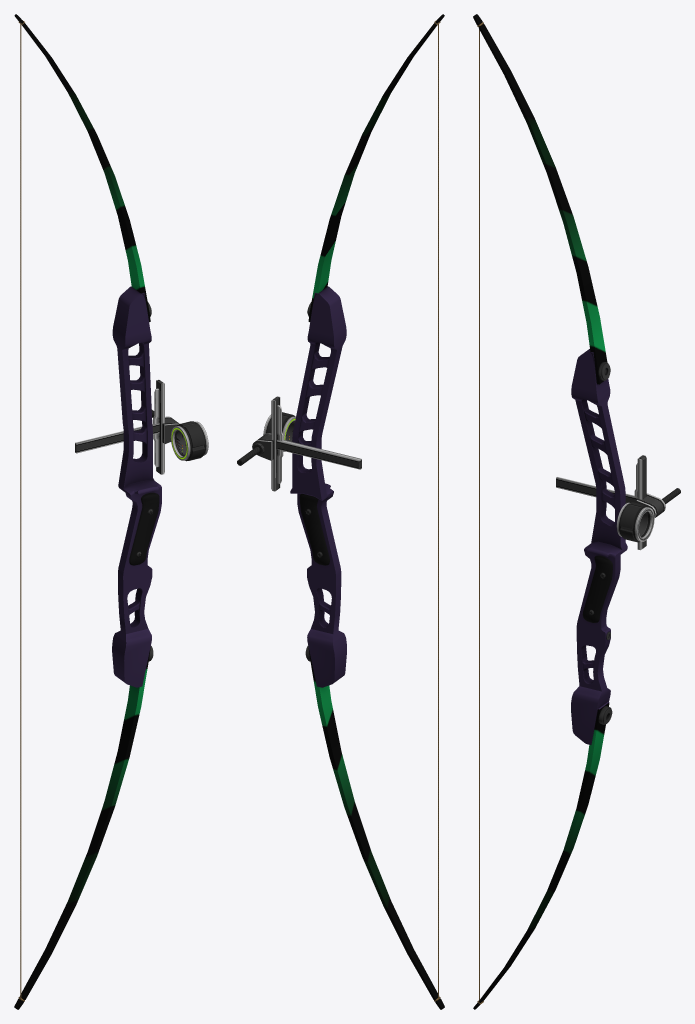
File: bow_01t.glb
3 renders of one model, left to right at view 1: azimuth 30°, elevation 25°; view 2: azimuth 150°, elevation 25°; view 3: azimuth 330°, elevation 25°, orthographic.
Parts seen in each view (by area): view 1: bow_01_low, bow_rope_01, bow_sight_holder_static, sight_body_sides, sight_outer; view 2: bow_01_low, bow_sight_holder_static, bow_rope_01; view 3: bow_01_low, bow_sight_holder_static, bow_rope_01, sight_body_sides, sight_outer.
Boxes of the visible parts, box(x1,y1,x2,y2) form: bow_01_low: box(14, 14, 161, 1009); bow_rope_01: box(18, 20, 24, 1001); bow_sight_holder_static: box(75, 379, 164, 474); sight_body_sides: box(172, 421, 208, 460); sight_outer: box(176, 421, 205, 461); bow_01_low: box(290, 14, 444, 1009); bow_sight_holder_static: box(271, 396, 361, 491); bow_rope_01: box(434, 20, 440, 1001); bow_01_low: box(473, 14, 627, 1009); bow_sight_holder_static: box(556, 455, 646, 550); bow_rope_01: box(477, 22, 483, 1004); sight_body_sides: box(616, 502, 652, 541); sight_outer: box(620, 502, 648, 542).
Bounding box in the file's own units: 0.293 × 1.56 × 0.1479.
Materials: 8 (7 with a texture image).
